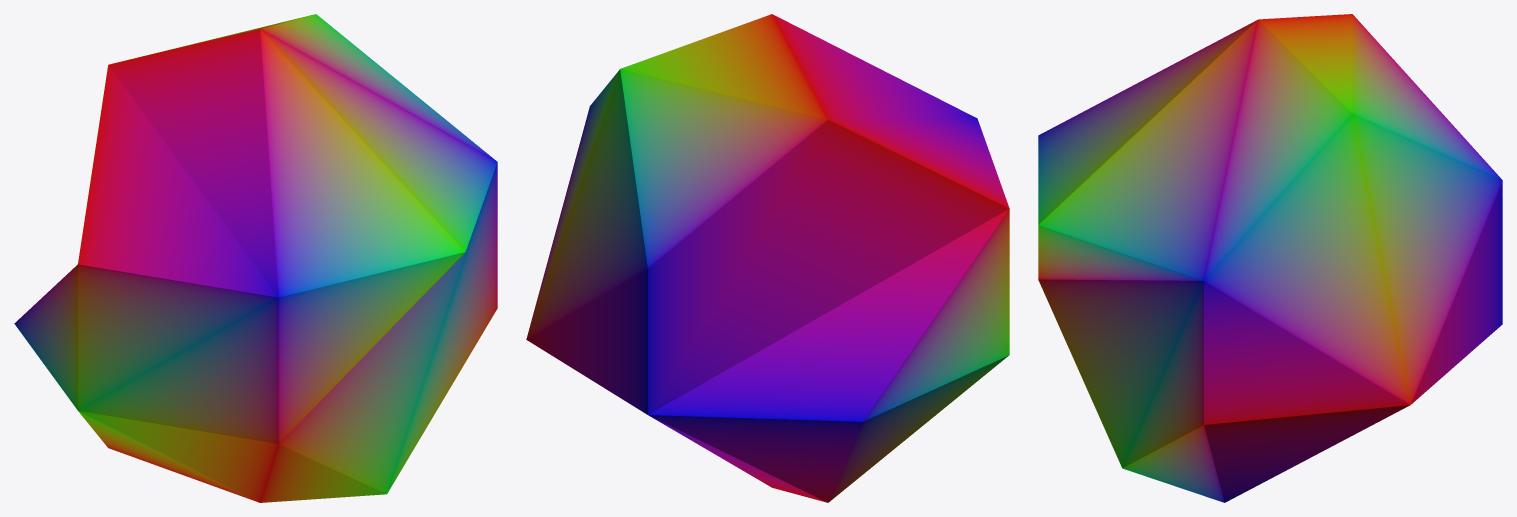
The model's file is all_8.obj.
3 views of the same model, side by side, from view 1: azimuth 30°, elevation 25°; view 2: azimuth 150°, elevation 25°; view 3: azimuth 270°, elevation 25° (orthographic).
Size of the model in its own units: 1.85 by 2 by 1.81.
